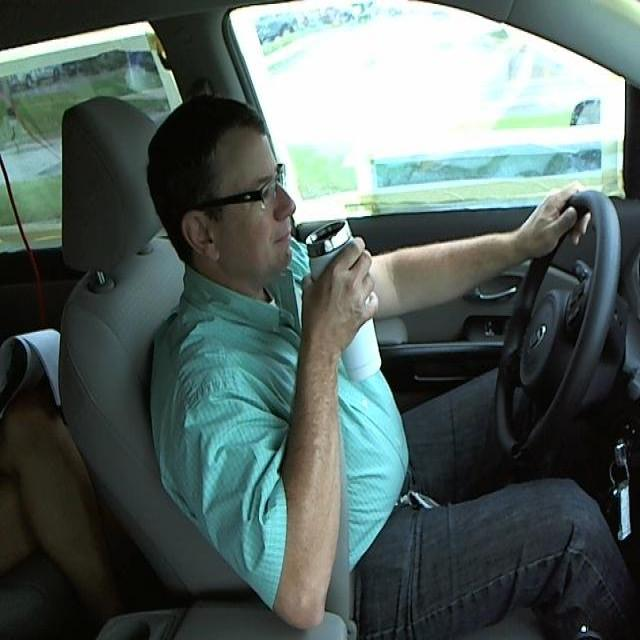drinking: (306, 212, 384, 384)
